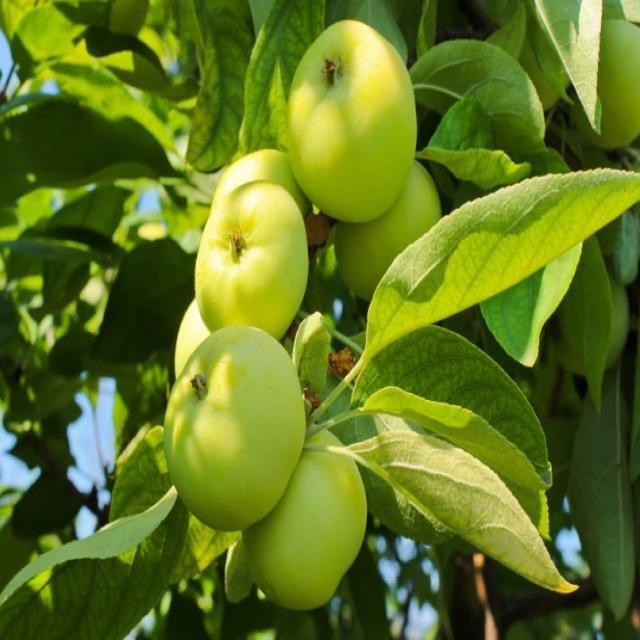Green Apple: (225, 431, 370, 626), (286, 25, 414, 210), (167, 318, 291, 503), (340, 150, 436, 288), (215, 186, 307, 324), (172, 286, 259, 418), (220, 124, 307, 239), (574, 13, 640, 146), (78, 1, 151, 31)
